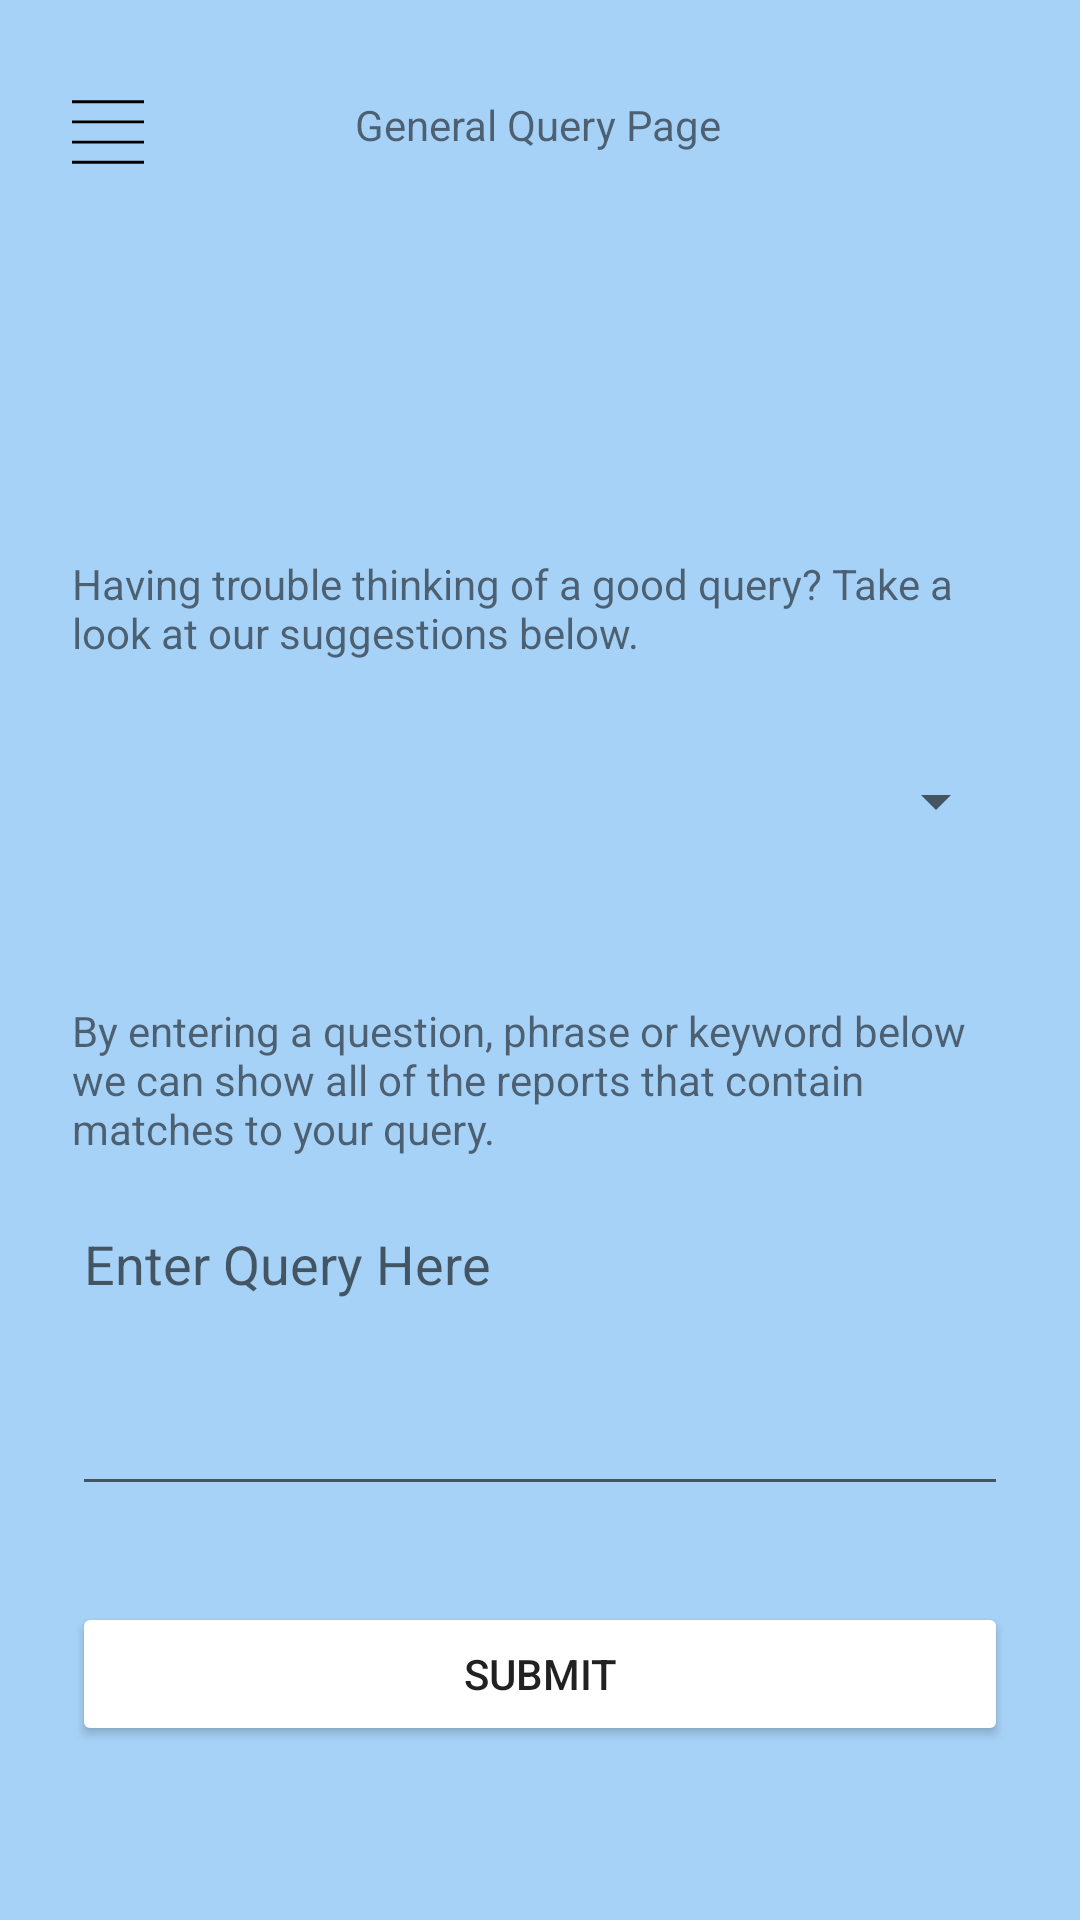

Named icons in this screenshot (1080px x 1920px) and their bounding boxes, box=[x1, y1, x2, y2]:
menu: box=[72, 100, 144, 164]
